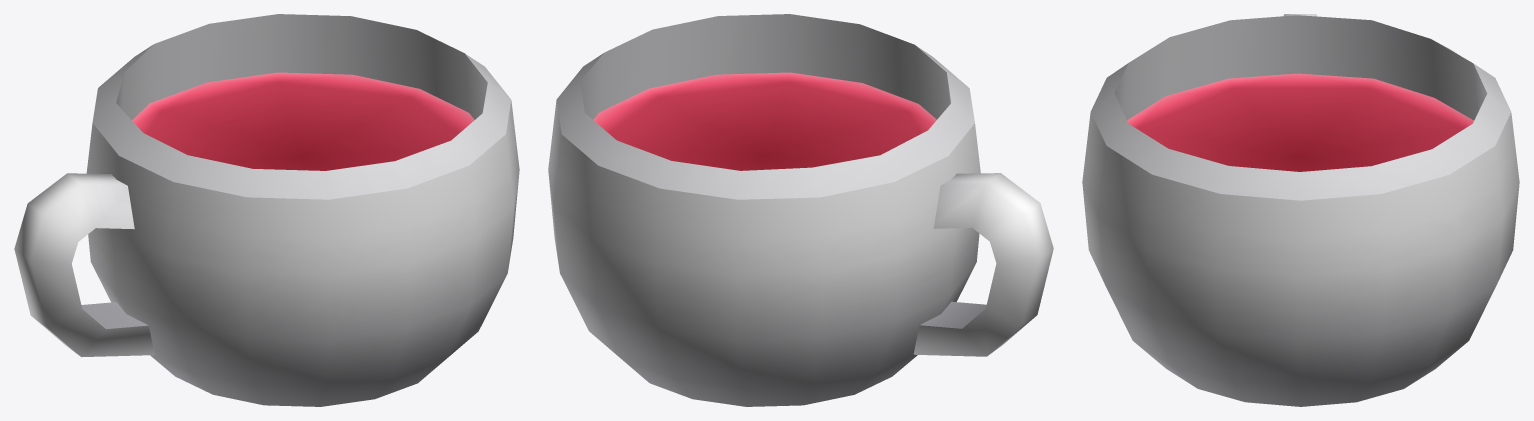
File: m_CupTea05.fbx
The picture shows the model from 3 angles, left to right: view 1: azimuth 30°, elevation 25°; view 2: azimuth 150°, elevation 25°; view 3: azimuth 270°, elevation 25°; orthographic projection.
Parts seen in each view (by area): view 1: m_CupTea05; view 2: m_CupTea05; view 3: m_CupTea05.
Part boxes in pixels (box(x1,y1,x2,y2)): m_CupTea05: box(14, 14, 519, 406); m_CupTea05: box(548, 14, 1053, 406); m_CupTea05: box(1082, 14, 1519, 406).
Size of the model in its own units: 14.34 by 7.38 by 11.6.
